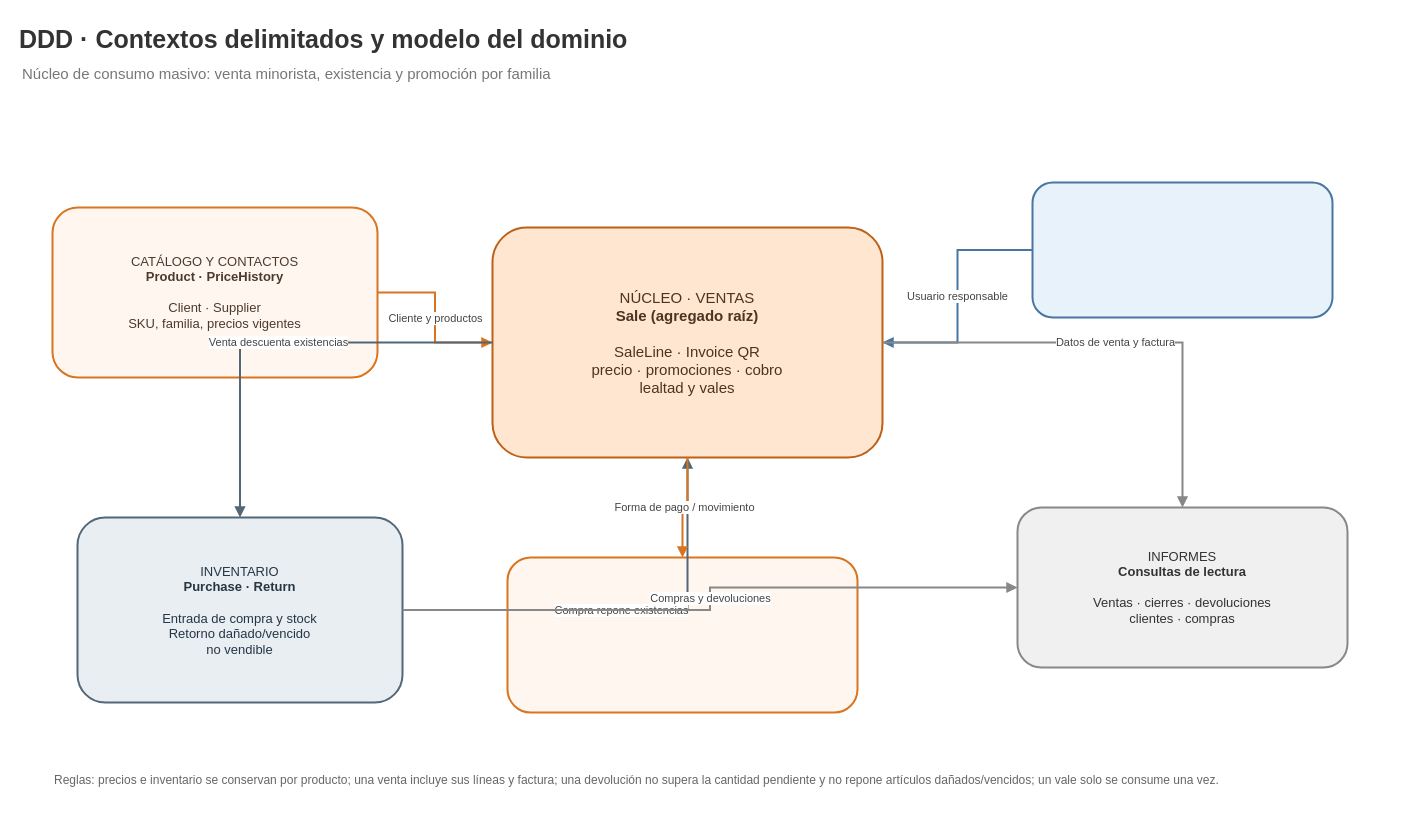
This 1417x824 diagram has some shape labels left out. The centre of each missing label's shape, as x and y in pixels:
"CAJA CashRegister Fondo inicial · ingresos efectivo esperado · corte" belongs at point 682,634.
"IDENTIDAD User · Session Acceso validado en SQLite" belongs at point 1182,249.
